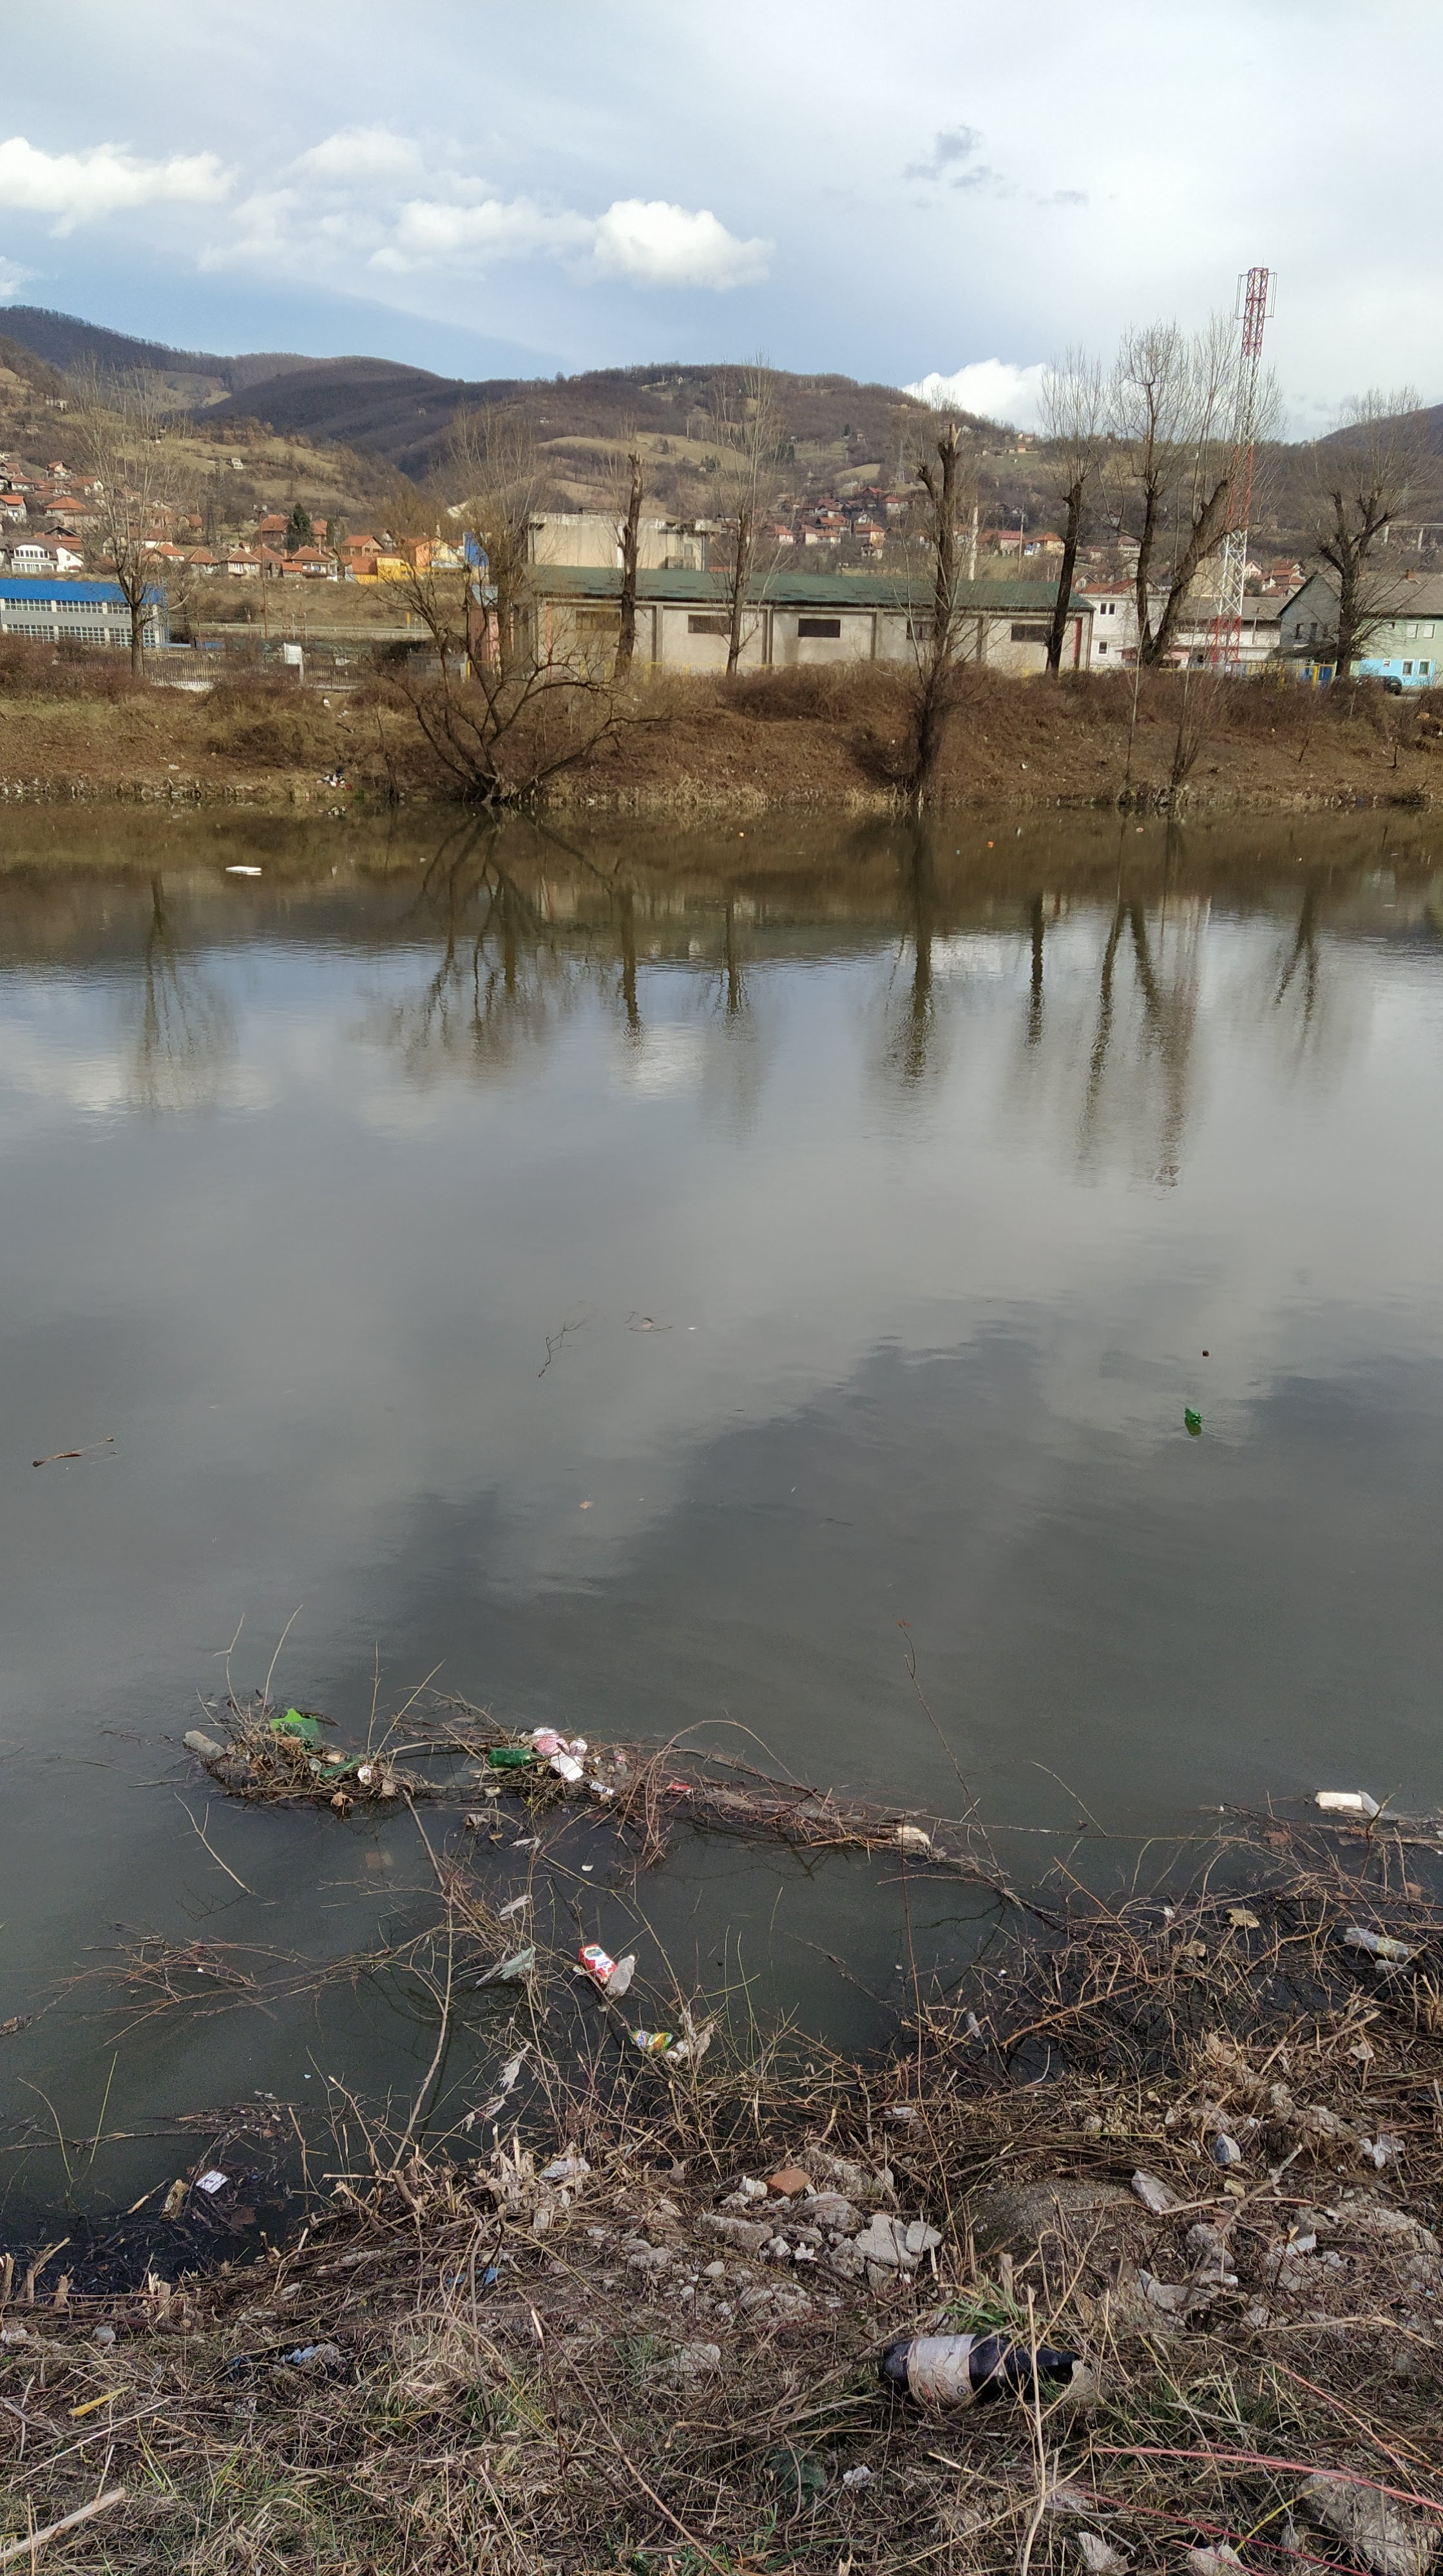Plastic Bottle: (1344, 1927, 1409, 1957), (607, 1955, 636, 1996), (322, 1752, 367, 1776), (182, 1730, 223, 1755), (285, 1720, 320, 1746), (489, 1748, 547, 1764), (629, 2029, 671, 2051), (1356, 1790, 1385, 1819), (1376, 1960, 1413, 1974), (1184, 1407, 1202, 1426), (613, 1748, 625, 1775), (310, 1757, 319, 1771), (1135, 826, 1142, 832), (988, 842, 993, 846)
